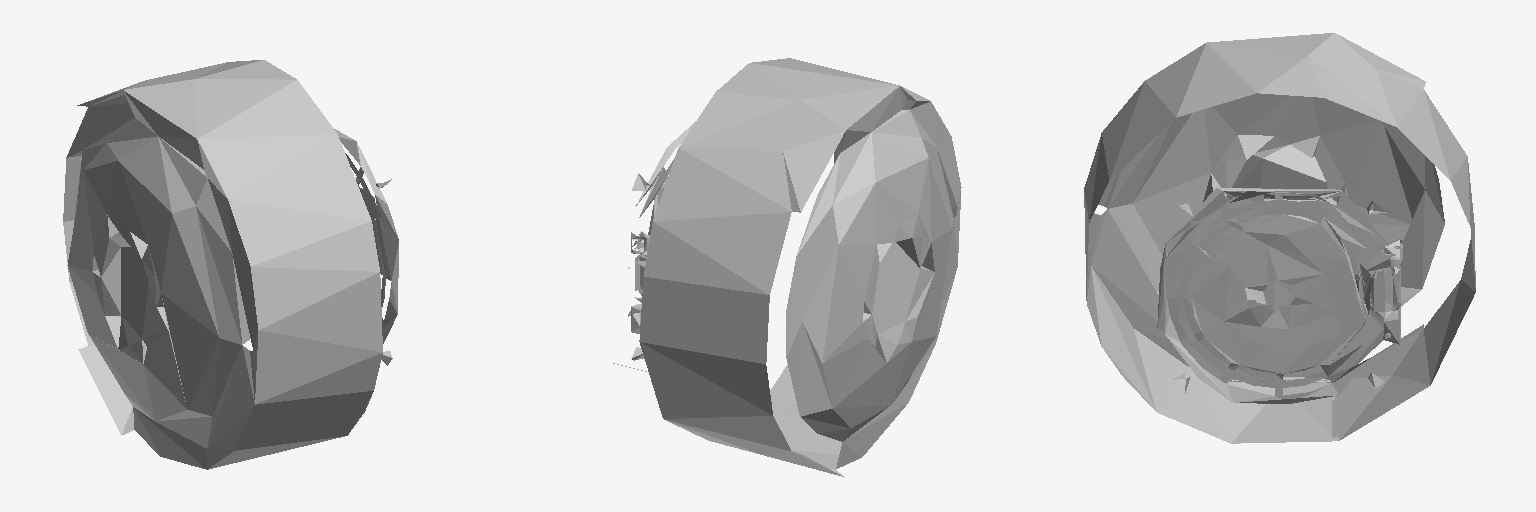
3 views of the same model, side by side, from view 1: azimuth 30°, elevation 25°; view 2: azimuth 150°, elevation 25°; view 3: azimuth 270°, elevation 25° (orthographic).
Visible parts, largest first — view 1: link1_2; view 2: link1_2; view 3: link1_2.
Part boxes in pixels (x1,y1,x2,y2): link1_2: (63,60,398,469); link1_2: (613,58,961,477); link1_2: (1084,33,1475,443).
Size of the model in its own units: 74.83 by 98.24 by 98.03.